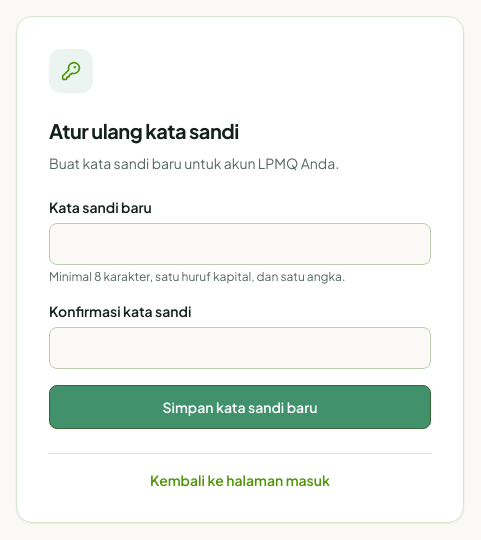
Scenario: ResetPasswordPage › resets the password using the token in the URL and shows a login action
Type "Rahasia123" into the password field labelled "Kata sandi baru" at (240, 244), box [49,222,431,264]
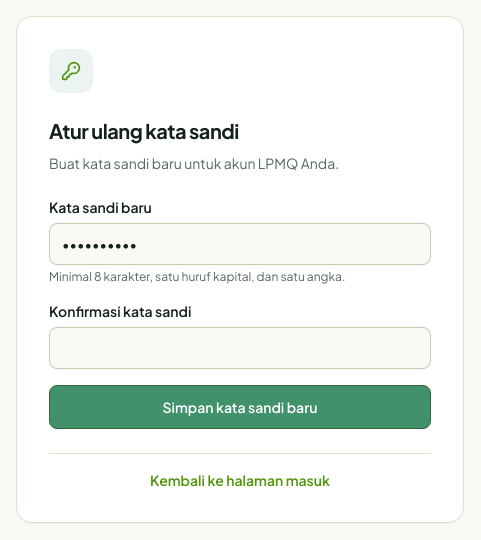
Type "Rahasia123" into the password field labelled "Konfirmasi kata sandi" at (240, 348), box [49,326,431,368]
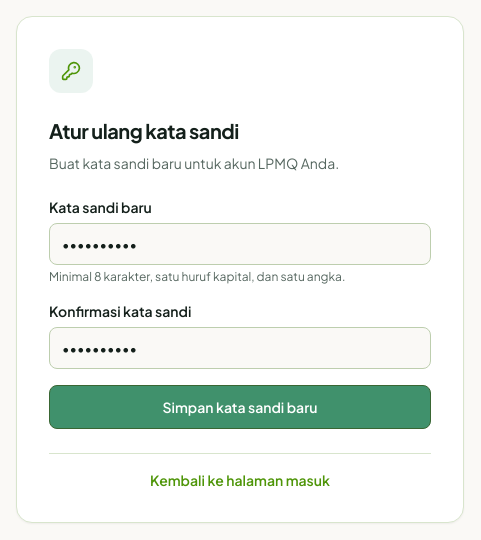
Click the button "Simpan kata sandi baru" at (240, 406), box [49,384,431,428]
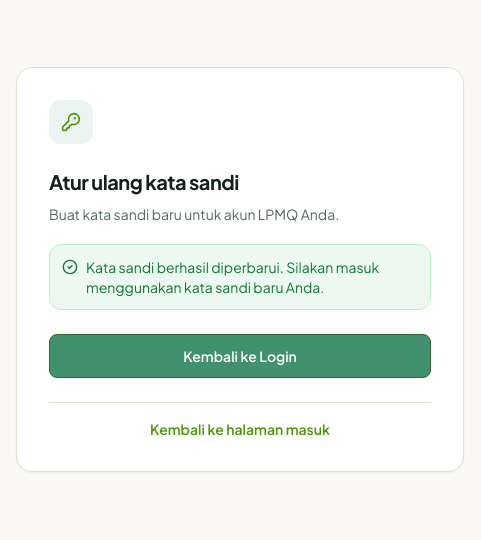
Now the text "Kata sandi berhasil diperbarui" is shown, box [86,258,379,296]
Now the button "Kembali ke Login" is shown, box [49,334,431,378]
